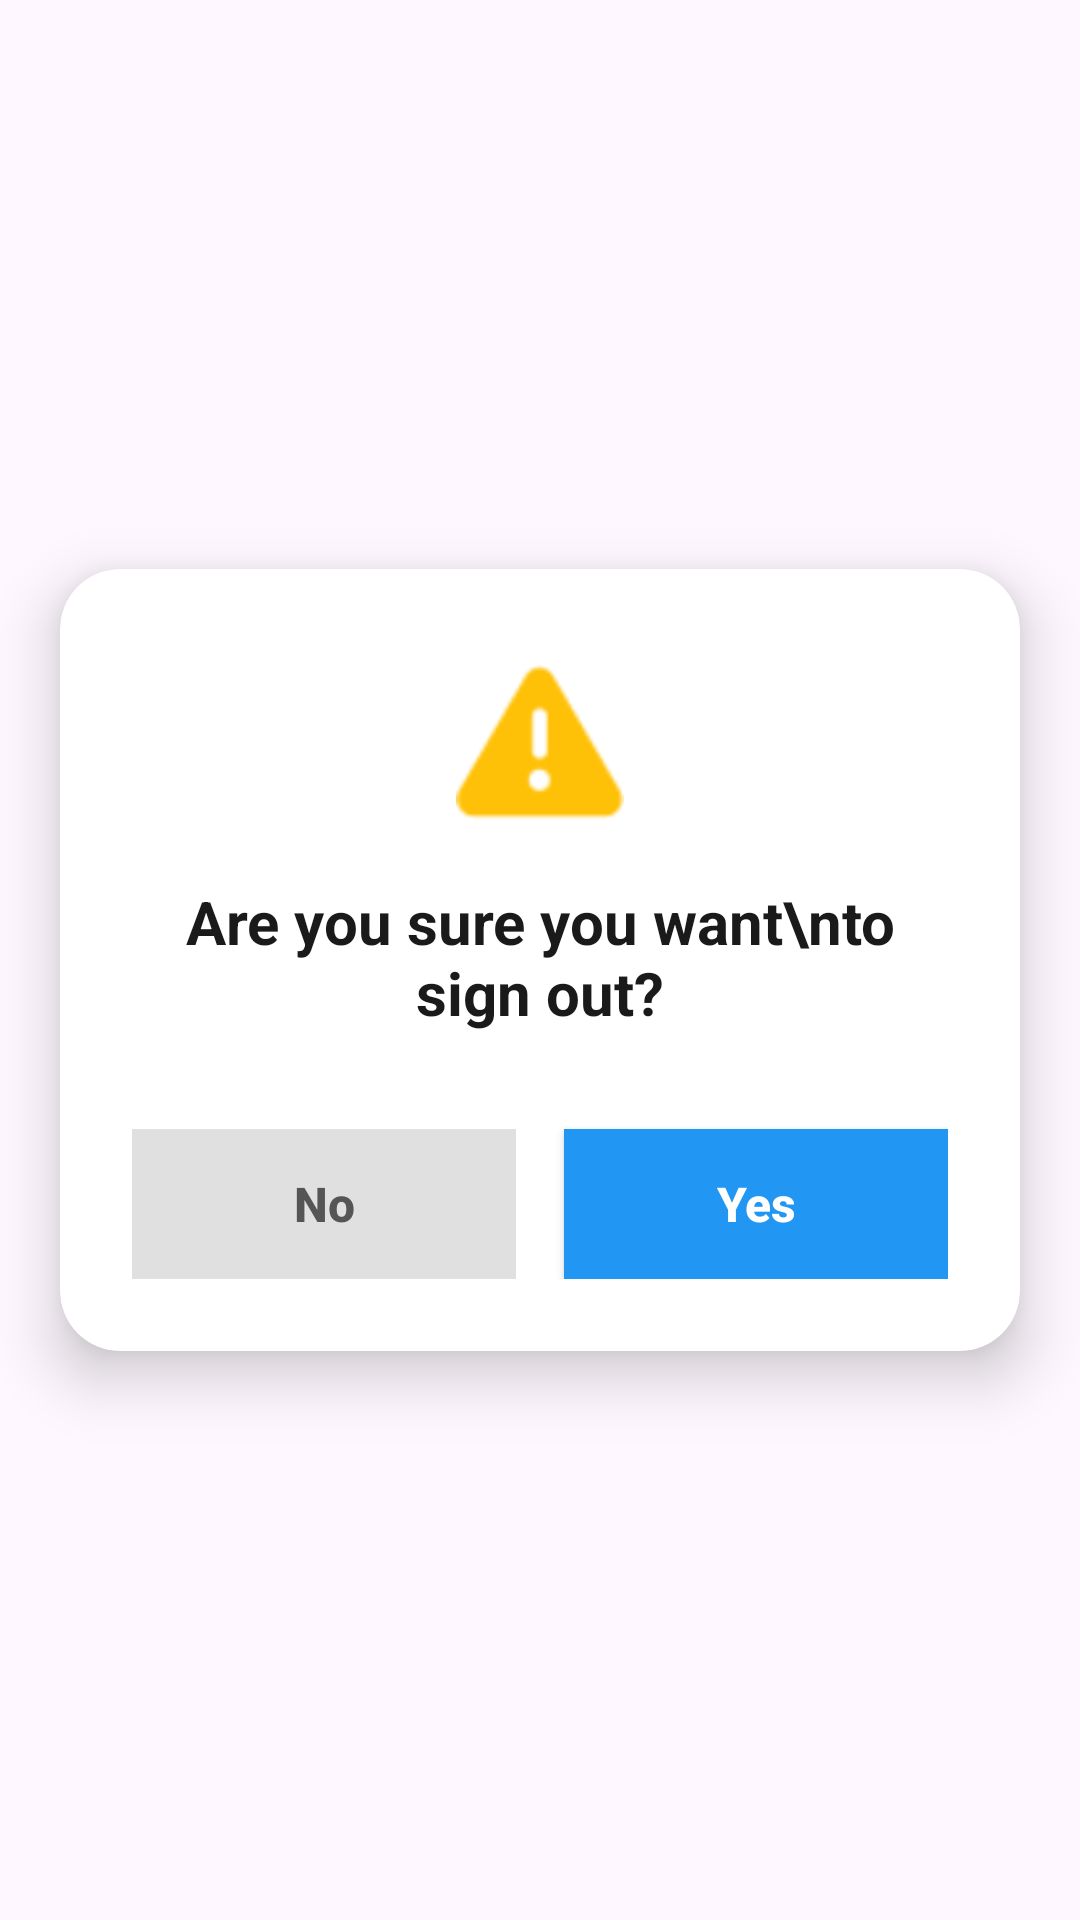

Where icons sit on this 1080 x 1920 app screen, as (x1,y1,x2,y2):
alert: (456,665,624,818)
